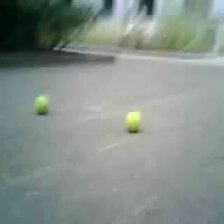tennis: (125, 110, 144, 132), (33, 96, 49, 114)
